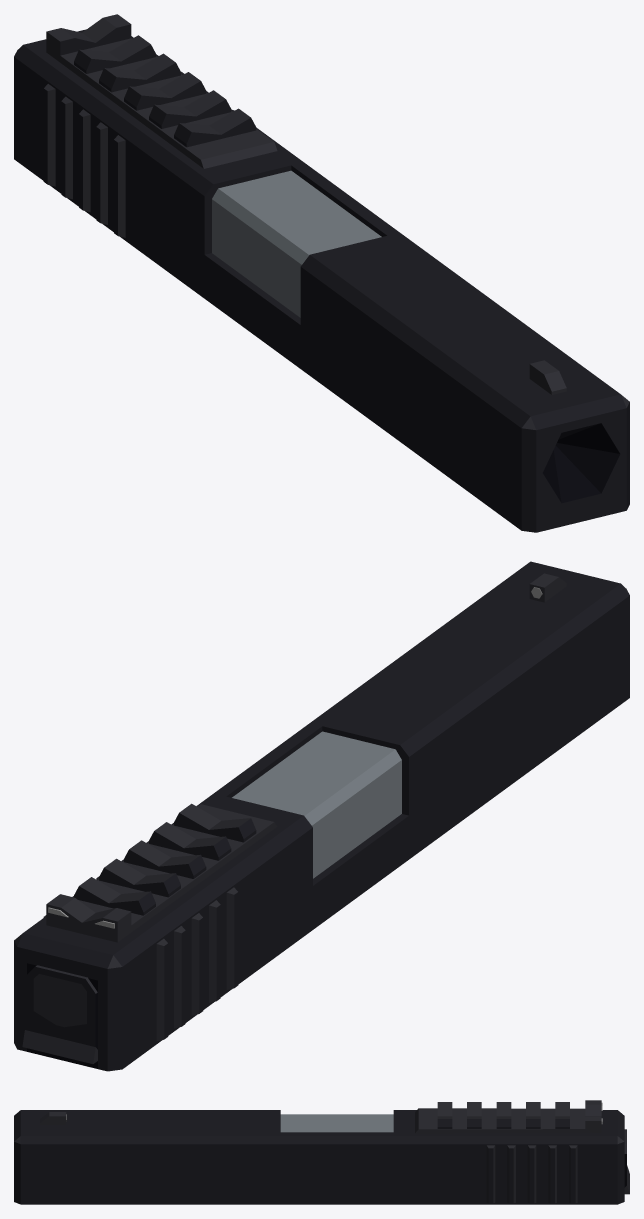
File: MW1_Slide_9mm_02.fbx
The picture shows the model from 3 angles, top to bottom: view 1: azimuth 30°, elevation 25°; view 2: azimuth 150°, elevation 25°; view 3: azimuth 270°, elevation 25°; orthographic projection. The views are drawn at different scales.
Visible parts, largest first — view 1: Slide.001, Slide_9mm_02; view 2: Slide.001, Slide_9mm_02; view 3: Slide.001, Slide_9mm_02.
Part boxes in pixels (<box>): Slide.001: <box>14,14,629,532</box>; Slide_9mm_02: <box>212,170,381,317</box>; Slide.001: <box>14,561,629,1071</box>; Slide_9mm_02: <box>232,731,401,878</box>; Slide.001: <box>14,1100,629,1204</box>; Slide_9mm_02: <box>280,1114,393,1132</box>.
Bounding box in the file's own units: 2.78 × 2.94 × 20.92.
